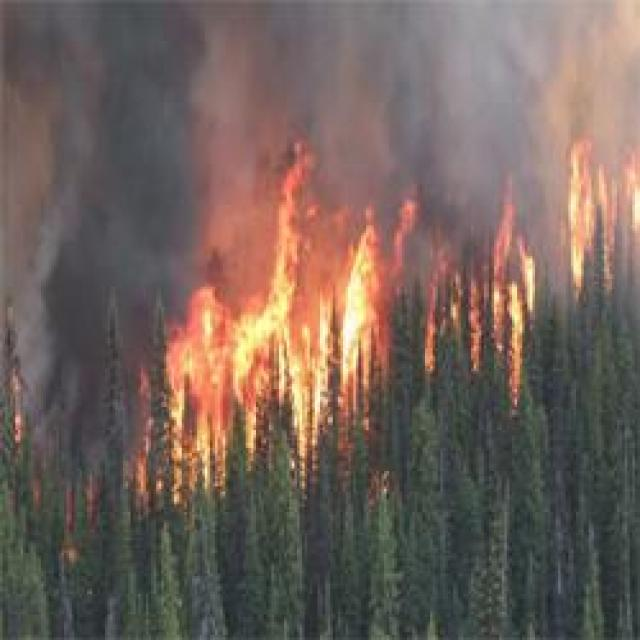fire: (282, 228, 380, 388), (188, 302, 272, 422), (565, 141, 623, 282)
smoke: (174, 0, 638, 123), (9, 2, 220, 257), (29, 227, 107, 449), (413, 126, 556, 210), (243, 109, 320, 225)
